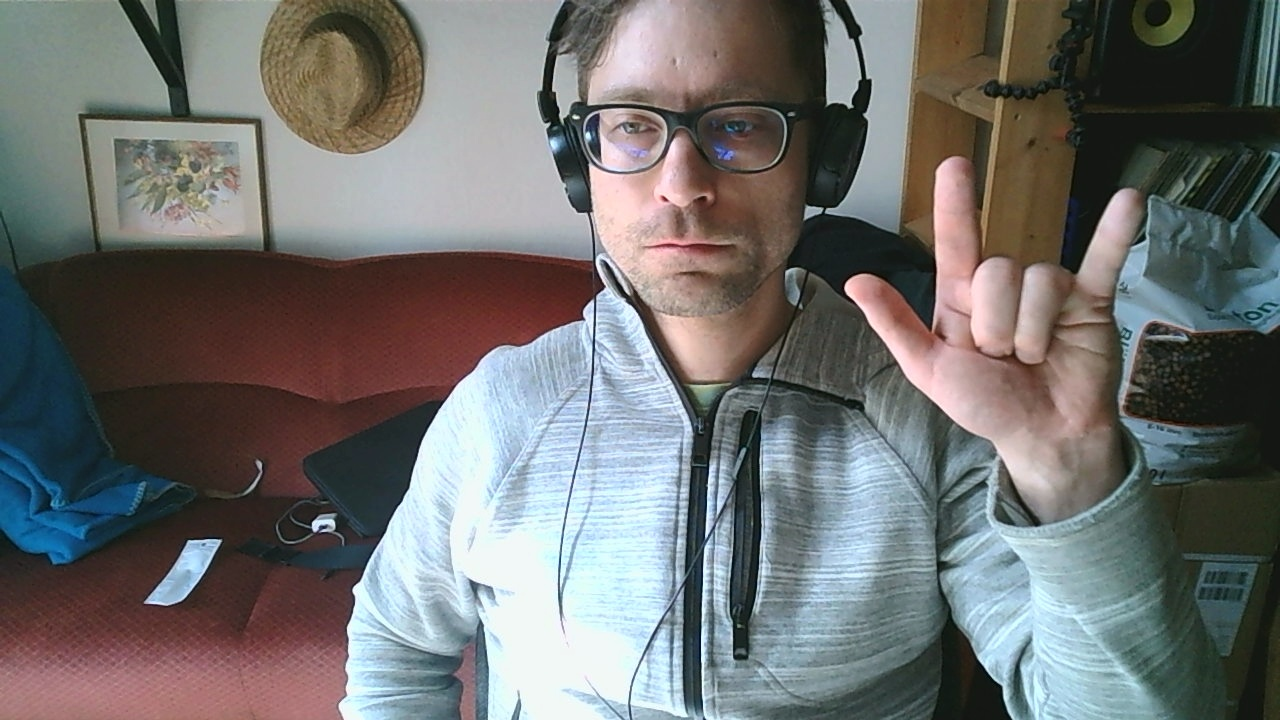iloveyou: (842, 156, 1145, 454)
